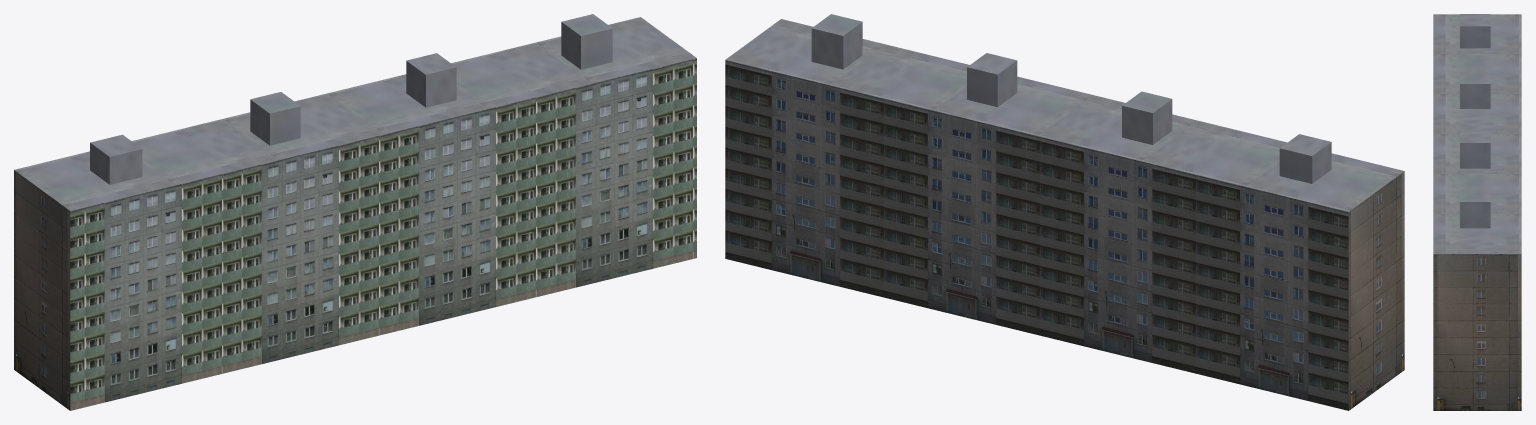
File: maja2.dae
3 views of the same model, side by side, from view 1: azimuth 30°, elevation 25°; view 2: azimuth 150°, elevation 25°; view 3: azimuth 270°, elevation 25° (orthographic). The views are drawn at different scales.
Parts seen in each view (by area): view 1: Sketchup; view 2: Sketchup; view 3: Sketchup.
Boxes of the visible parts, x1,y1,x2,y2 form: Sketchup: [14, 14, 696, 410]; Sketchup: [725, 14, 1404, 410]; Sketchup: [1433, 14, 1521, 410].
Size of the model in its own units: 89.59 by 13.92 by 31.93.
